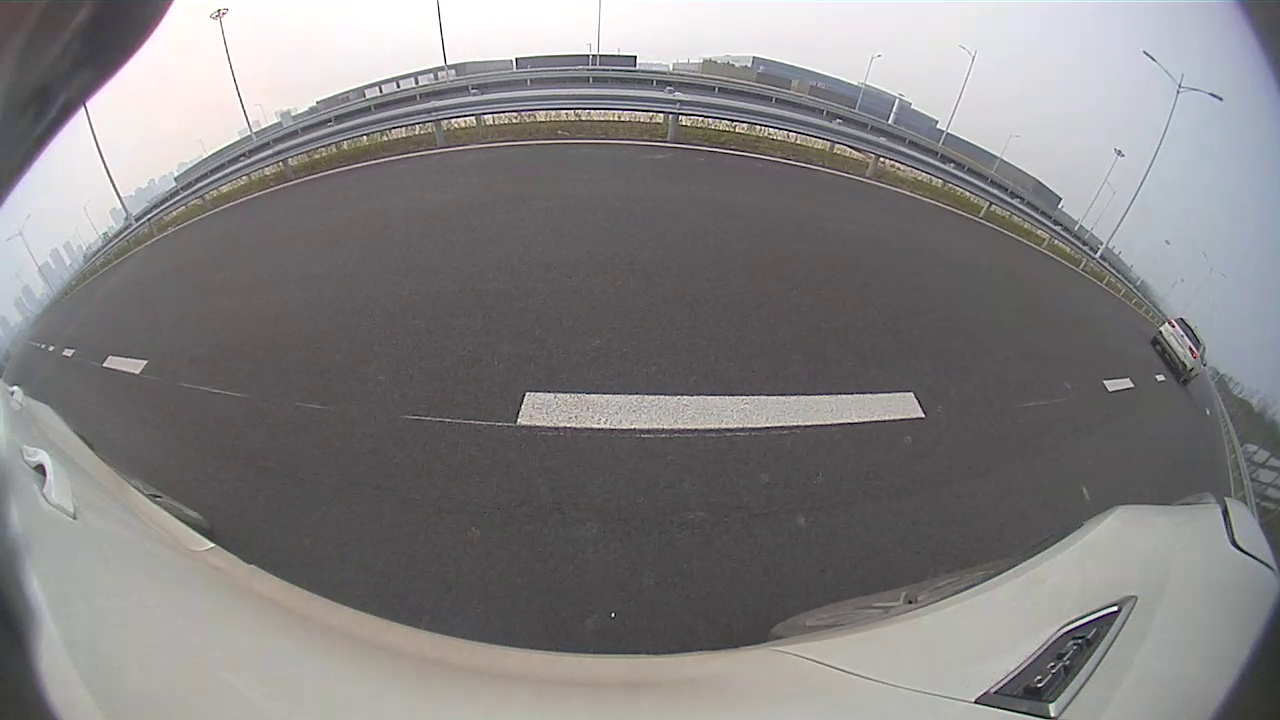car: (1149, 317, 1207, 384)
